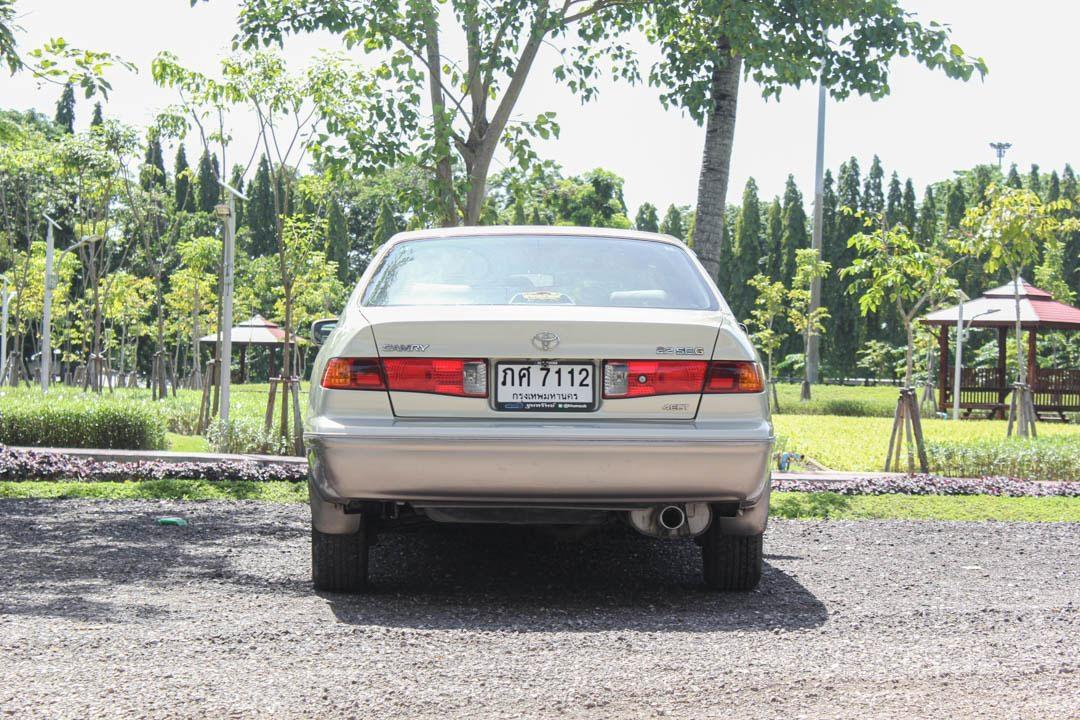license-plate: (494, 358, 597, 415)
